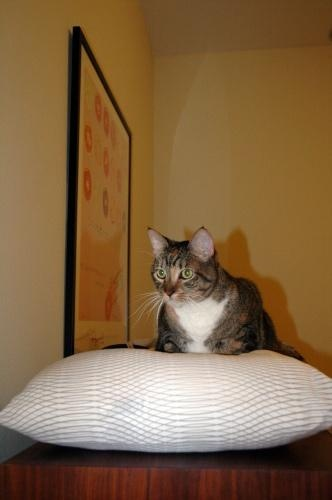cat: (130, 227, 306, 364)
